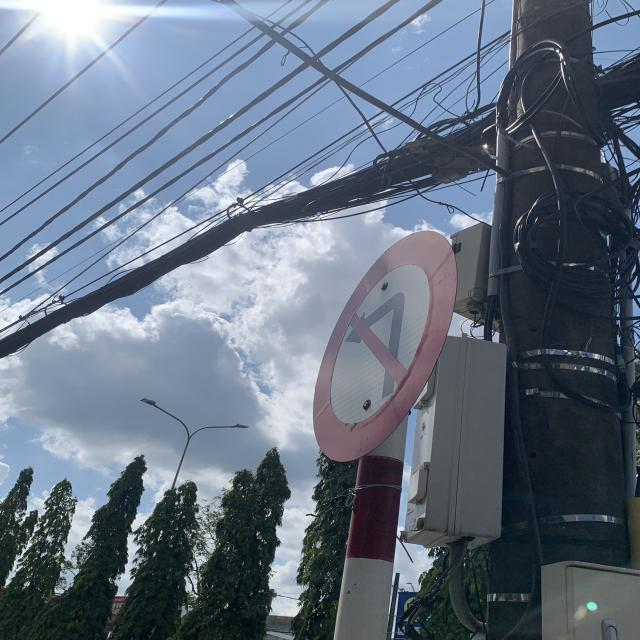Cam_Re_Trai: (309, 230, 462, 464)
